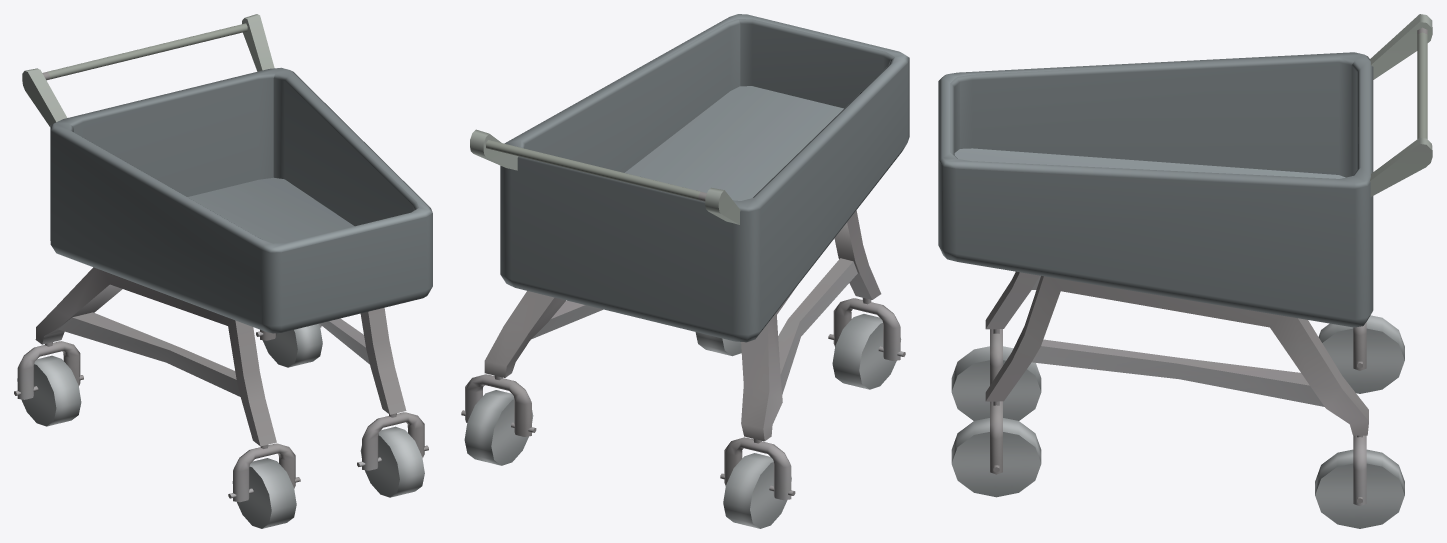
Rendered from Cart.fbx.
3 renders of one model, left to right at view 1: azimuth 30°, elevation 25°; view 2: azimuth 150°, elevation 25°; view 3: azimuth 270°, elevation 25°, orthographic. The views are drawn at different scales.
Parts seen in each view (by area): view 1: Carkas, Wheel_RB, Wheel_FL, Wheel_FR, Wheel_RL; view 2: Carkas, Wheel_FR, Wheel_RB, Wheel_RL, Wheel_FL; view 3: Carkas, Wheel_FL, Wheel_RL, Wheel_RB, Wheel_FR.
Boxes of the visible parts, x1=… form: Carkas: x1=22, y1=14, x2=432, y2=446; Wheel_RB: x1=14, y1=341, x2=83, y2=426; Wheel_FL: x1=357, y1=412, x2=428, y2=497; Wheel_FR: x1=228, y1=443, x2=300, y2=528; Wheel_RL: x1=256, y1=323, x2=322, y2=367; Carkas: x1=470, y1=14, x2=909, y2=441; Wheel_FR: x1=828, y1=298, x2=905, y2=389; Wheel_RB: x1=720, y1=437, x2=795, y2=528; Wheel_RL: x1=461, y1=374, x2=536, y2=465; Wheel_FL: x1=695, y1=332, x2=741, y2=356; Carkas: x1=938, y1=14, x2=1432, y2=435; Wheel_FL: x1=951, y1=401, x2=1041, y2=497; Wheel_RL: x1=1315, y1=435, x2=1404, y2=528; Wheel_RB: x1=1318, y1=315, x2=1404, y2=393; Wheel_FR: x1=951, y1=329, x2=1041, y2=420.
Size of the model in its own units: 1.35 by 1.37 by 1.63.
Materials: 1 (1 with a texture image).
